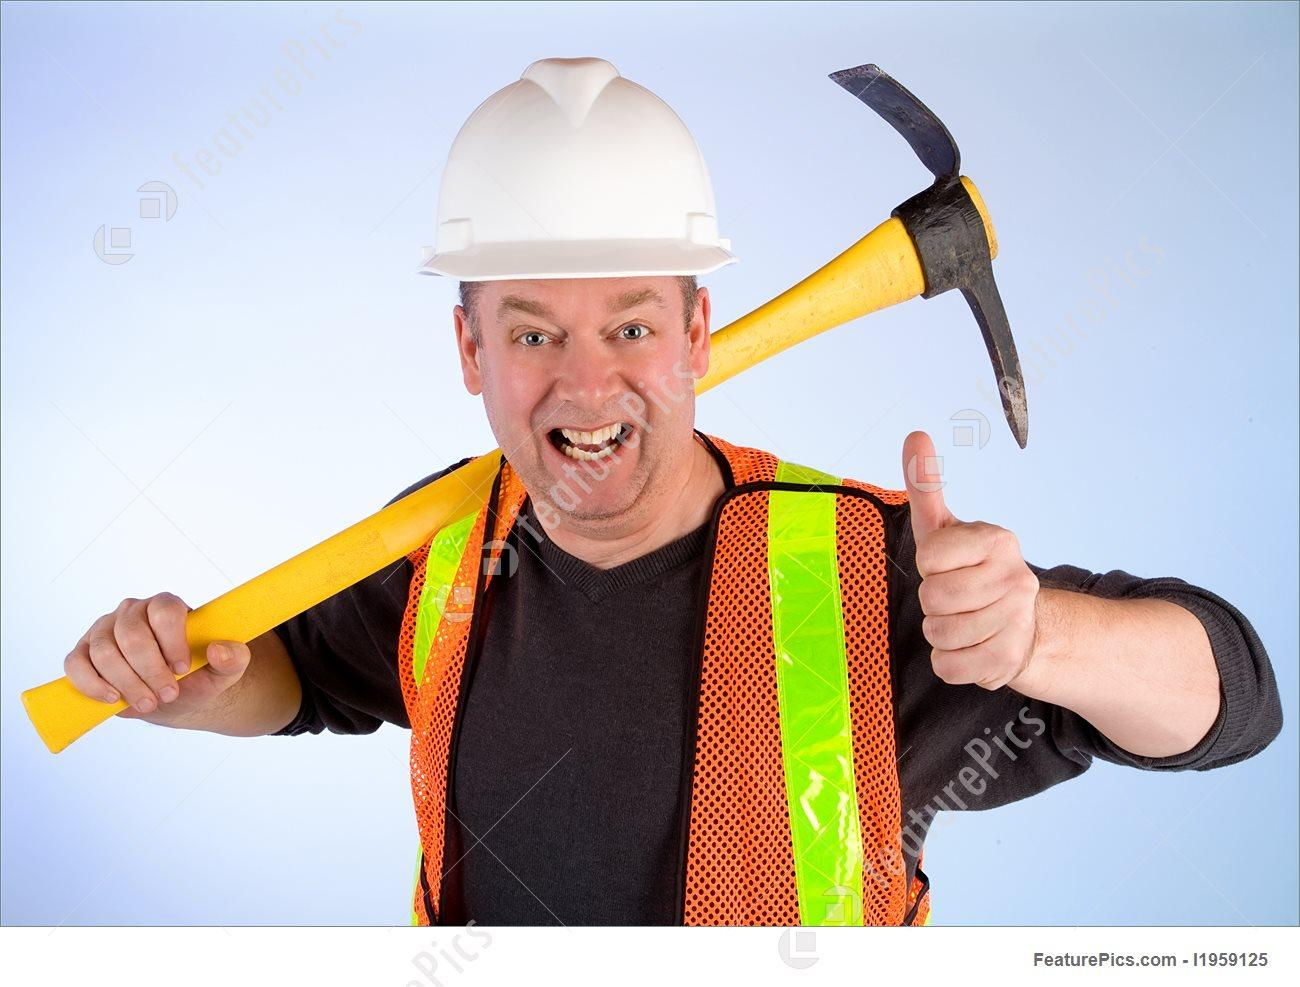helmet: (427, 55, 735, 285)
